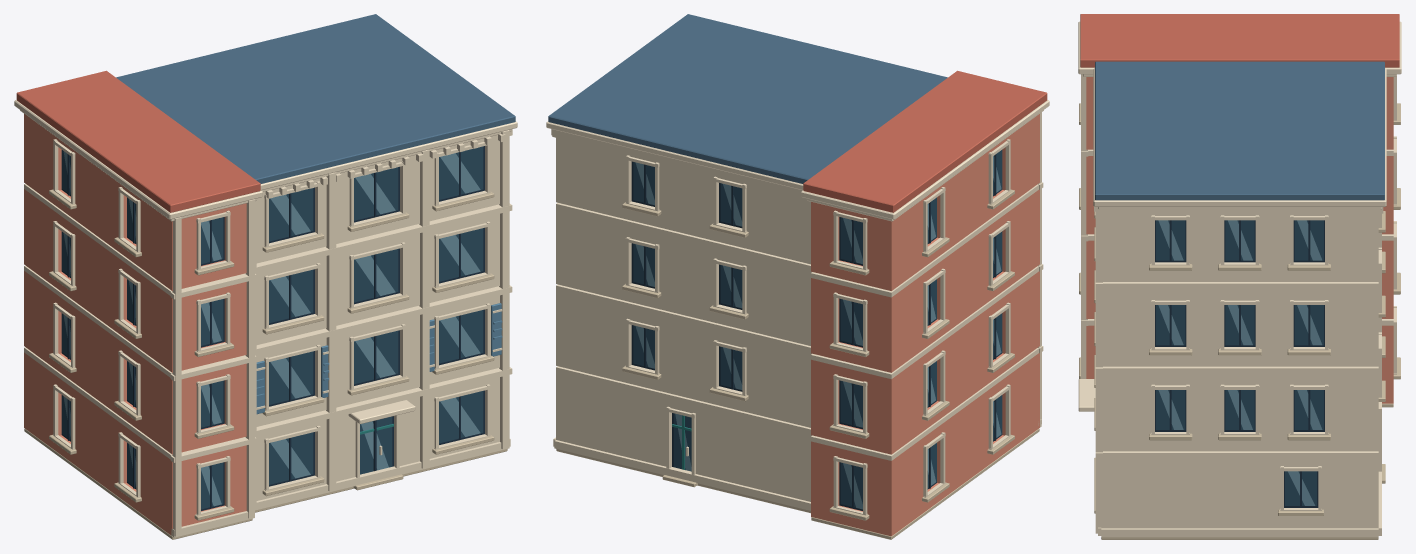
File: coral_stair_office.glb
3 views of the same model, side by side, from view 1: azimuth 30°, elevation 25°; view 2: azimuth 150°, elevation 25°; view 3: azimuth 270°, elevation 25° (orthographic). The views are drawn at different scales.
Visible parts, largest first — view 1: CoralStairOffice_StaticMesh; view 2: CoralStairOffice_StaticMesh; view 3: CoralStairOffice_StaticMesh.
Boxes of the visible parts, x1,y1,x2,y2 form: CoralStairOffice_StaticMesh: [14, 14, 517, 539]; CoralStairOffice_StaticMesh: [546, 14, 1049, 539]; CoralStairOffice_StaticMesh: [1078, 14, 1401, 539].
Bounding box in the file's own units: 14.12 × 12.84 × 10.72.
